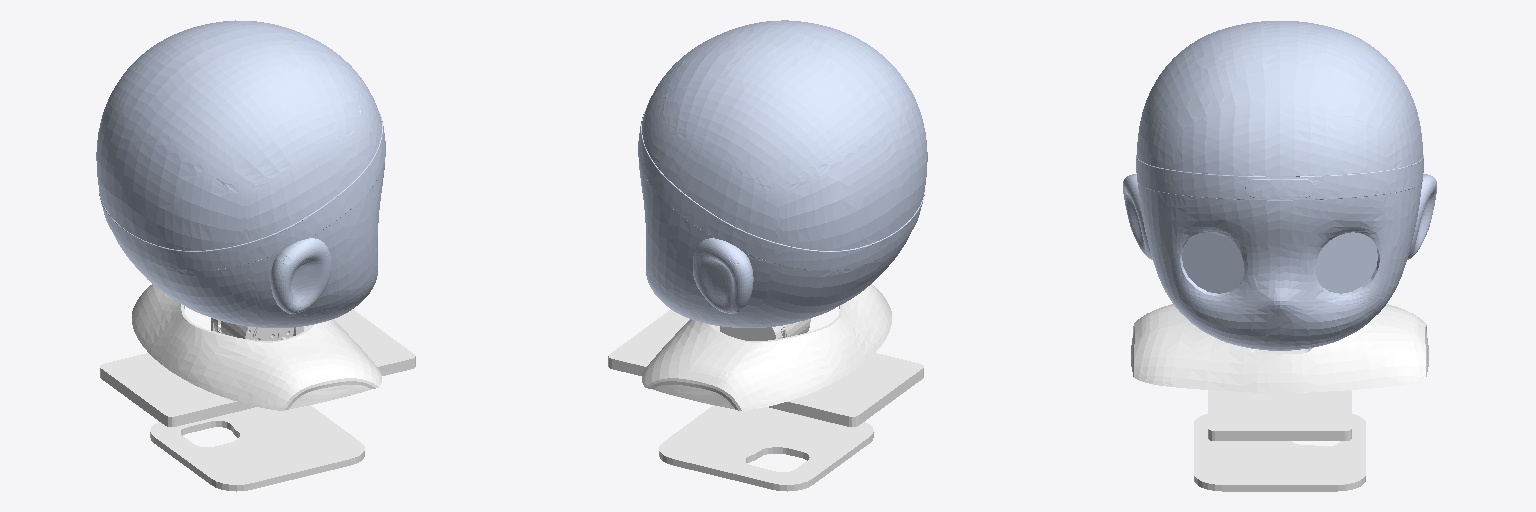
robot.urdf — head:
<?xml version="1.0" encoding="utf-8"?>
<!-- This URDF was automatically created by SolidWorks to URDF Exporter! Originally created by Stephen Brawner (brawner@gmail.com) 
     Commit Version: 1.6.0-4-g7f85cfe  Build Version: 1.6.7995.38578
     For more information, please see http://wiki.ros.org/sw_urdf_exporter -->
<robot
  name="head">
  <link
    name="base_link">
    <inertial>
      <origin
        xyz="0.0134994799241566 -0.00627303856616033 0.040472794772801"
        rpy="0 0 0" />
      <mass
        value="0.277341602282721" />
      <inertia
        ixx="0.000326636040137305"
        ixy="-7.52146192445418E-06"
        ixz="1.67875812896625E-05"
        iyy="0.000230734117832988"
        iyz="1.92269800643357E-05"
        izz="0.00042478306343637" />
    </inertial>
    <visual>
      <origin
        xyz="0 0 0"
        rpy="0 0 0" />
      <geometry>
        <mesh
          filename="package://head/meshes/base_link.STL" />
      </geometry>
      <material
        name="">
        <color
          rgba="1 1 1 1" />
      </material>
    </visual>
    <collision>
      <origin
        xyz="0 0 0"
        rpy="0 0 0" />
      <geometry>
        <mesh
          filename="package://head/meshes/base_link.STL" />
      </geometry>
    </collision>
  </link>
  <link
    name="pitch_Link">
    <inertial>
      <origin
        xyz="0.0074785 0.0017363 -0.0065323"
        rpy="0 0 0" />
      <mass
        value="0.069264" />
      <inertia
        ixx="1.9797E-05"
        ixy="-2.9072E-07"
        ixz="5.8121E-07"
        iyy="1.1074E-05"
        iyz="1.6445E-06"
        izz="1.329E-05" />
    </inertial>
    <visual>
      <origin
        xyz="0 0 0"
        rpy="0 0 0" />
      <geometry>
        <mesh
          filename="package://head/meshes/pitch_Link.STL" />
      </geometry>
      <material
        name="">
        <color
          rgba="1 1 1 1" />
      </material>
    </visual>
    <collision>
      <origin
        xyz="0 0 0"
        rpy="0 0 0" />
      <geometry>
        <mesh
          filename="package://head/meshes/pitch_Link.STL" />
      </geometry>
    </collision>
  </link>
  <joint
    name="pitch"
    type="revolute">
    <origin
      xyz="0 0 0.081"
      rpy="0 0 0" />
    <parent
      link="base_link" />
    <child
      link="pitch_Link" />
    <axis
      xyz="0 1 0" />
    <limit
      lower="-0.61"
      upper="0.61"
      effort="0"
      velocity="0" />
  </joint>
  <link
    name="roll_Link">
    <inertial>
      <origin
        xyz="0.0080176 -1.9376E-06 0.021354"
        rpy="0 0 0" />
      <mass
        value="0.030916" />
      <inertia
        ixx="3.7451E-06"
        ixy="8.9395E-11"
        ixz="-3.3646E-08"
        iyy="1.3269E-05"
        iyz="-3.2668E-11"
        izz="1.1339E-05" />
    </inertial>
    <visual>
      <origin
        xyz="0 0 0"
        rpy="0 0 0" />
      <geometry>
        <mesh
          filename="package://head/meshes/roll_Link.STL" />
      </geometry>
      <material
        name="">
        <color
          rgba="0.50196 1 1 1" />
      </material>
    </visual>
    <collision>
      <origin
        xyz="0 0 0"
        rpy="0 0 0" />
      <geometry>
        <mesh
          filename="package://head/meshes/roll_Link.STL" />
      </geometry>
    </collision>
  </link>
  <joint
    name="roll"
    type="revolute">
    <origin
      xyz="0 0 0"
      rpy="0 0 0" />
    <parent
      link="pitch_Link" />
    <child
      link="roll_Link" />
    <axis
      xyz="1 0 0" />
    <limit
      lower="-0.523"
      upper="0.523"
      effort="0"
      velocity="0" />
  </joint>
  <link
    name="yaw_Link">
    <inertial>
      <origin
        xyz="0.014656 4.7946E-05 0.030278"
        rpy="0 0 0" />
      <mass
        value="0.78885" />
      <inertia
        ixx="0.0042026"
        ixy="-4.4189E-06"
        ixz="0.00018464"
        iyy="0.0040213"
        iyz="-5.3908E-06"
        izz="0.0040228" />
    </inertial>
    <visual>
      <origin
        xyz="0 0 0"
        rpy="0 0 0" />
      <geometry>
        <mesh
          filename="package://head/meshes/yaw_Link.STL" />
      </geometry>
      <material
        name="">
        <color
          rgba="0.86667 0.9098 1 1" />
      </material>
    </visual>
    <collision>
      <origin
        xyz="0 0 0"
        rpy="0 0 0" />
      <geometry>
        <mesh
          filename="package://head/meshes/yaw_Link.STL" />
      </geometry>
    </collision>
  </link>
  <joint
    name="yaw"
    type="revolute">
    <origin
      xyz="0 0 0.0565"
      rpy="0 0 0" />
    <parent
      link="roll_Link" />
    <child
      link="yaw_Link" />
    <axis
      xyz="0 0 1" />
    <limit
      lower="-1.657"
      upper="1.657"
      effort="0"
      velocity="0" />
  </joint>
</robot>

--- Render facts (derived) ---
3 views of the same robot in one strip: view 1: azimuth 30°, elevation 25°; view 2: azimuth 150°, elevation 25°; view 3: azimuth 270°, elevation 25° (orthographic).
Robot: head — 4 links, 3 joints (3 revolute); root link base_link; default pose: all joints at 0.
Links seen in each view (by area): view 1: yaw_Link, base_link; view 2: yaw_Link, base_link; view 3: yaw_Link, base_link.
Link boxes in pixels (box(x1,y1,x2,y2)): yaw_Link: box(96, 20, 385, 327); base_link: box(100, 284, 415, 491); yaw_Link: box(638, 20, 927, 327); base_link: box(608, 284, 923, 491); yaw_Link: box(1123, 21, 1436, 350); base_link: box(1131, 304, 1428, 491).
Size in the robot's own frame: 0.2088 by 0.2184 by 0.3161 metres.
Meshes: 4 distinct files referenced, 4 mesh visuals loaded (4 binary STL).
